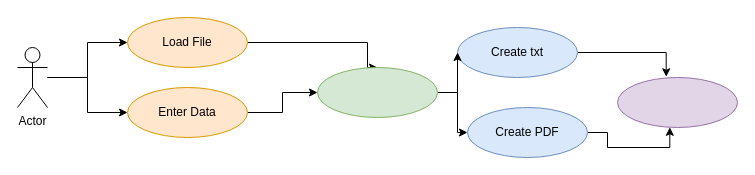
Some shapes in this 755 by 175 pixel diagram are drawn without their labels. Here are the shapes that lost their labels. From the top down, the box of each, then its label:
(316, 66, 438, 118): Statics Analysis
(616, 76, 738, 128): Send Email
